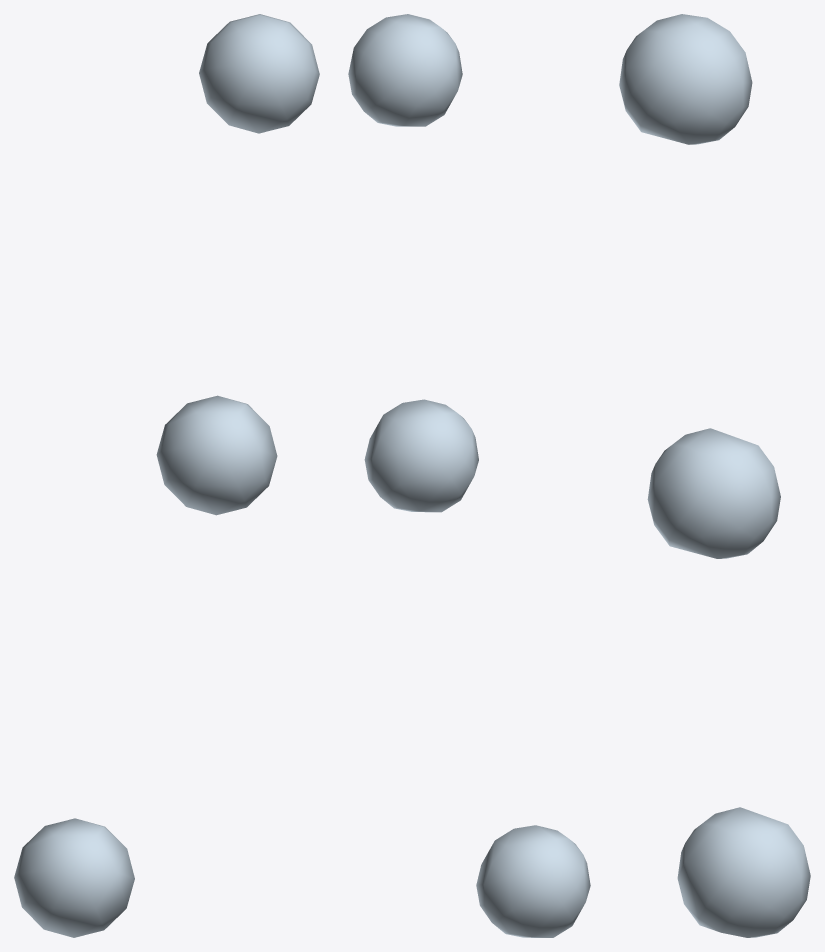
Rendered from linfatico-pretracheal-nodes-r.glb.
3 views of the same model, side by side, from view 1: azimuth 30°, elevation 25°; view 2: azimuth 150°, elevation 25°; view 3: azimuth 270°, elevation 25° (orthographic). The views are drawn at different scales.
Visible parts, largest first — view 1: Pretracheal nodes.r; view 2: Pretracheal nodes.r; view 3: Pretracheal nodes.r.
Part boxes in pixels (box(x1,y1,x2,y2)): Pretracheal nodes.r: box(14, 14, 319, 937); Pretracheal nodes.r: box(348, 14, 590, 937); Pretracheal nodes.r: box(619, 14, 810, 937).
Bounding box in the file's own units: 0.0065 × 0.0212 × 0.00367.
